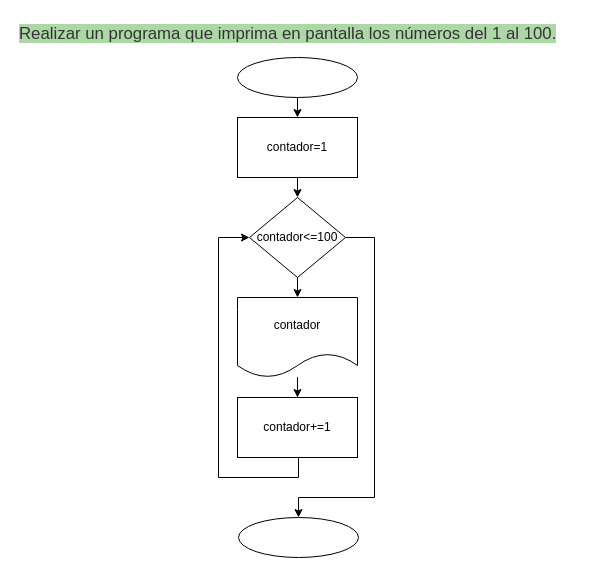
Image size: 594x575. Some labels were removed from this diagram. The centre of each missing label's shape, as x and y in pixels:
"fin" goes at pixel 298 537.
"inicio" goes at pixel 297 77.
